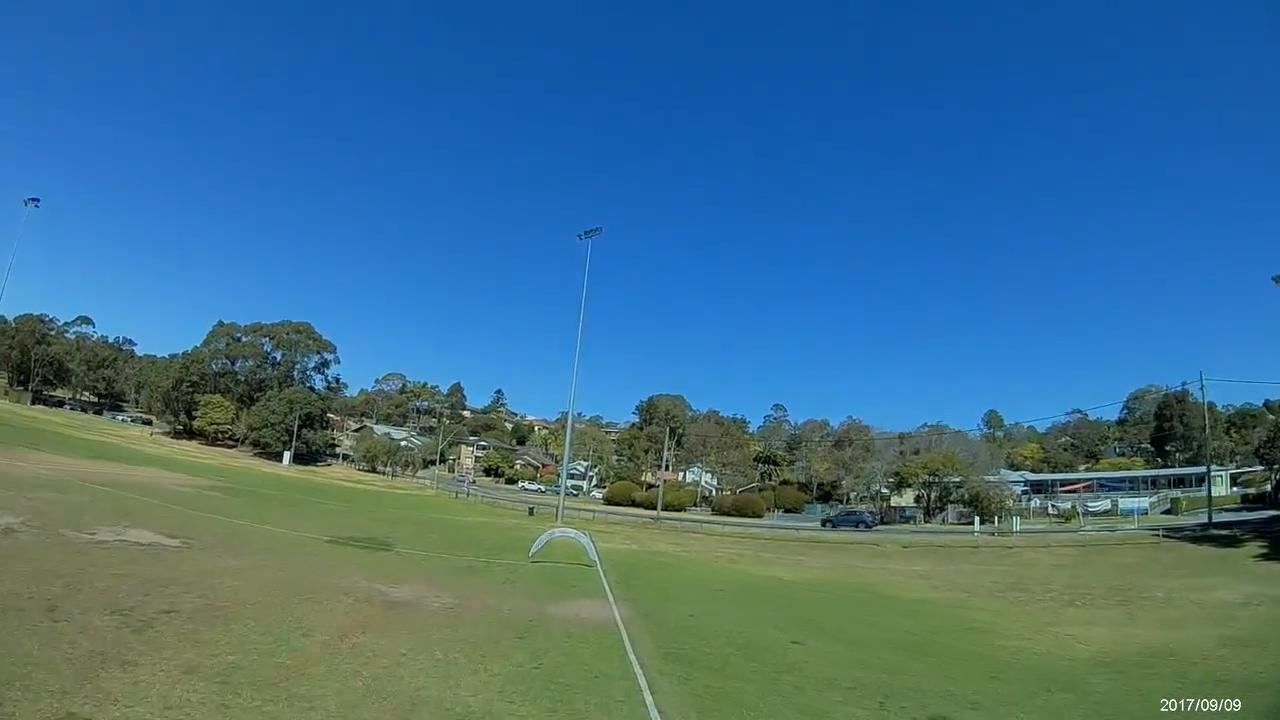gate: (528, 526, 600, 566)
